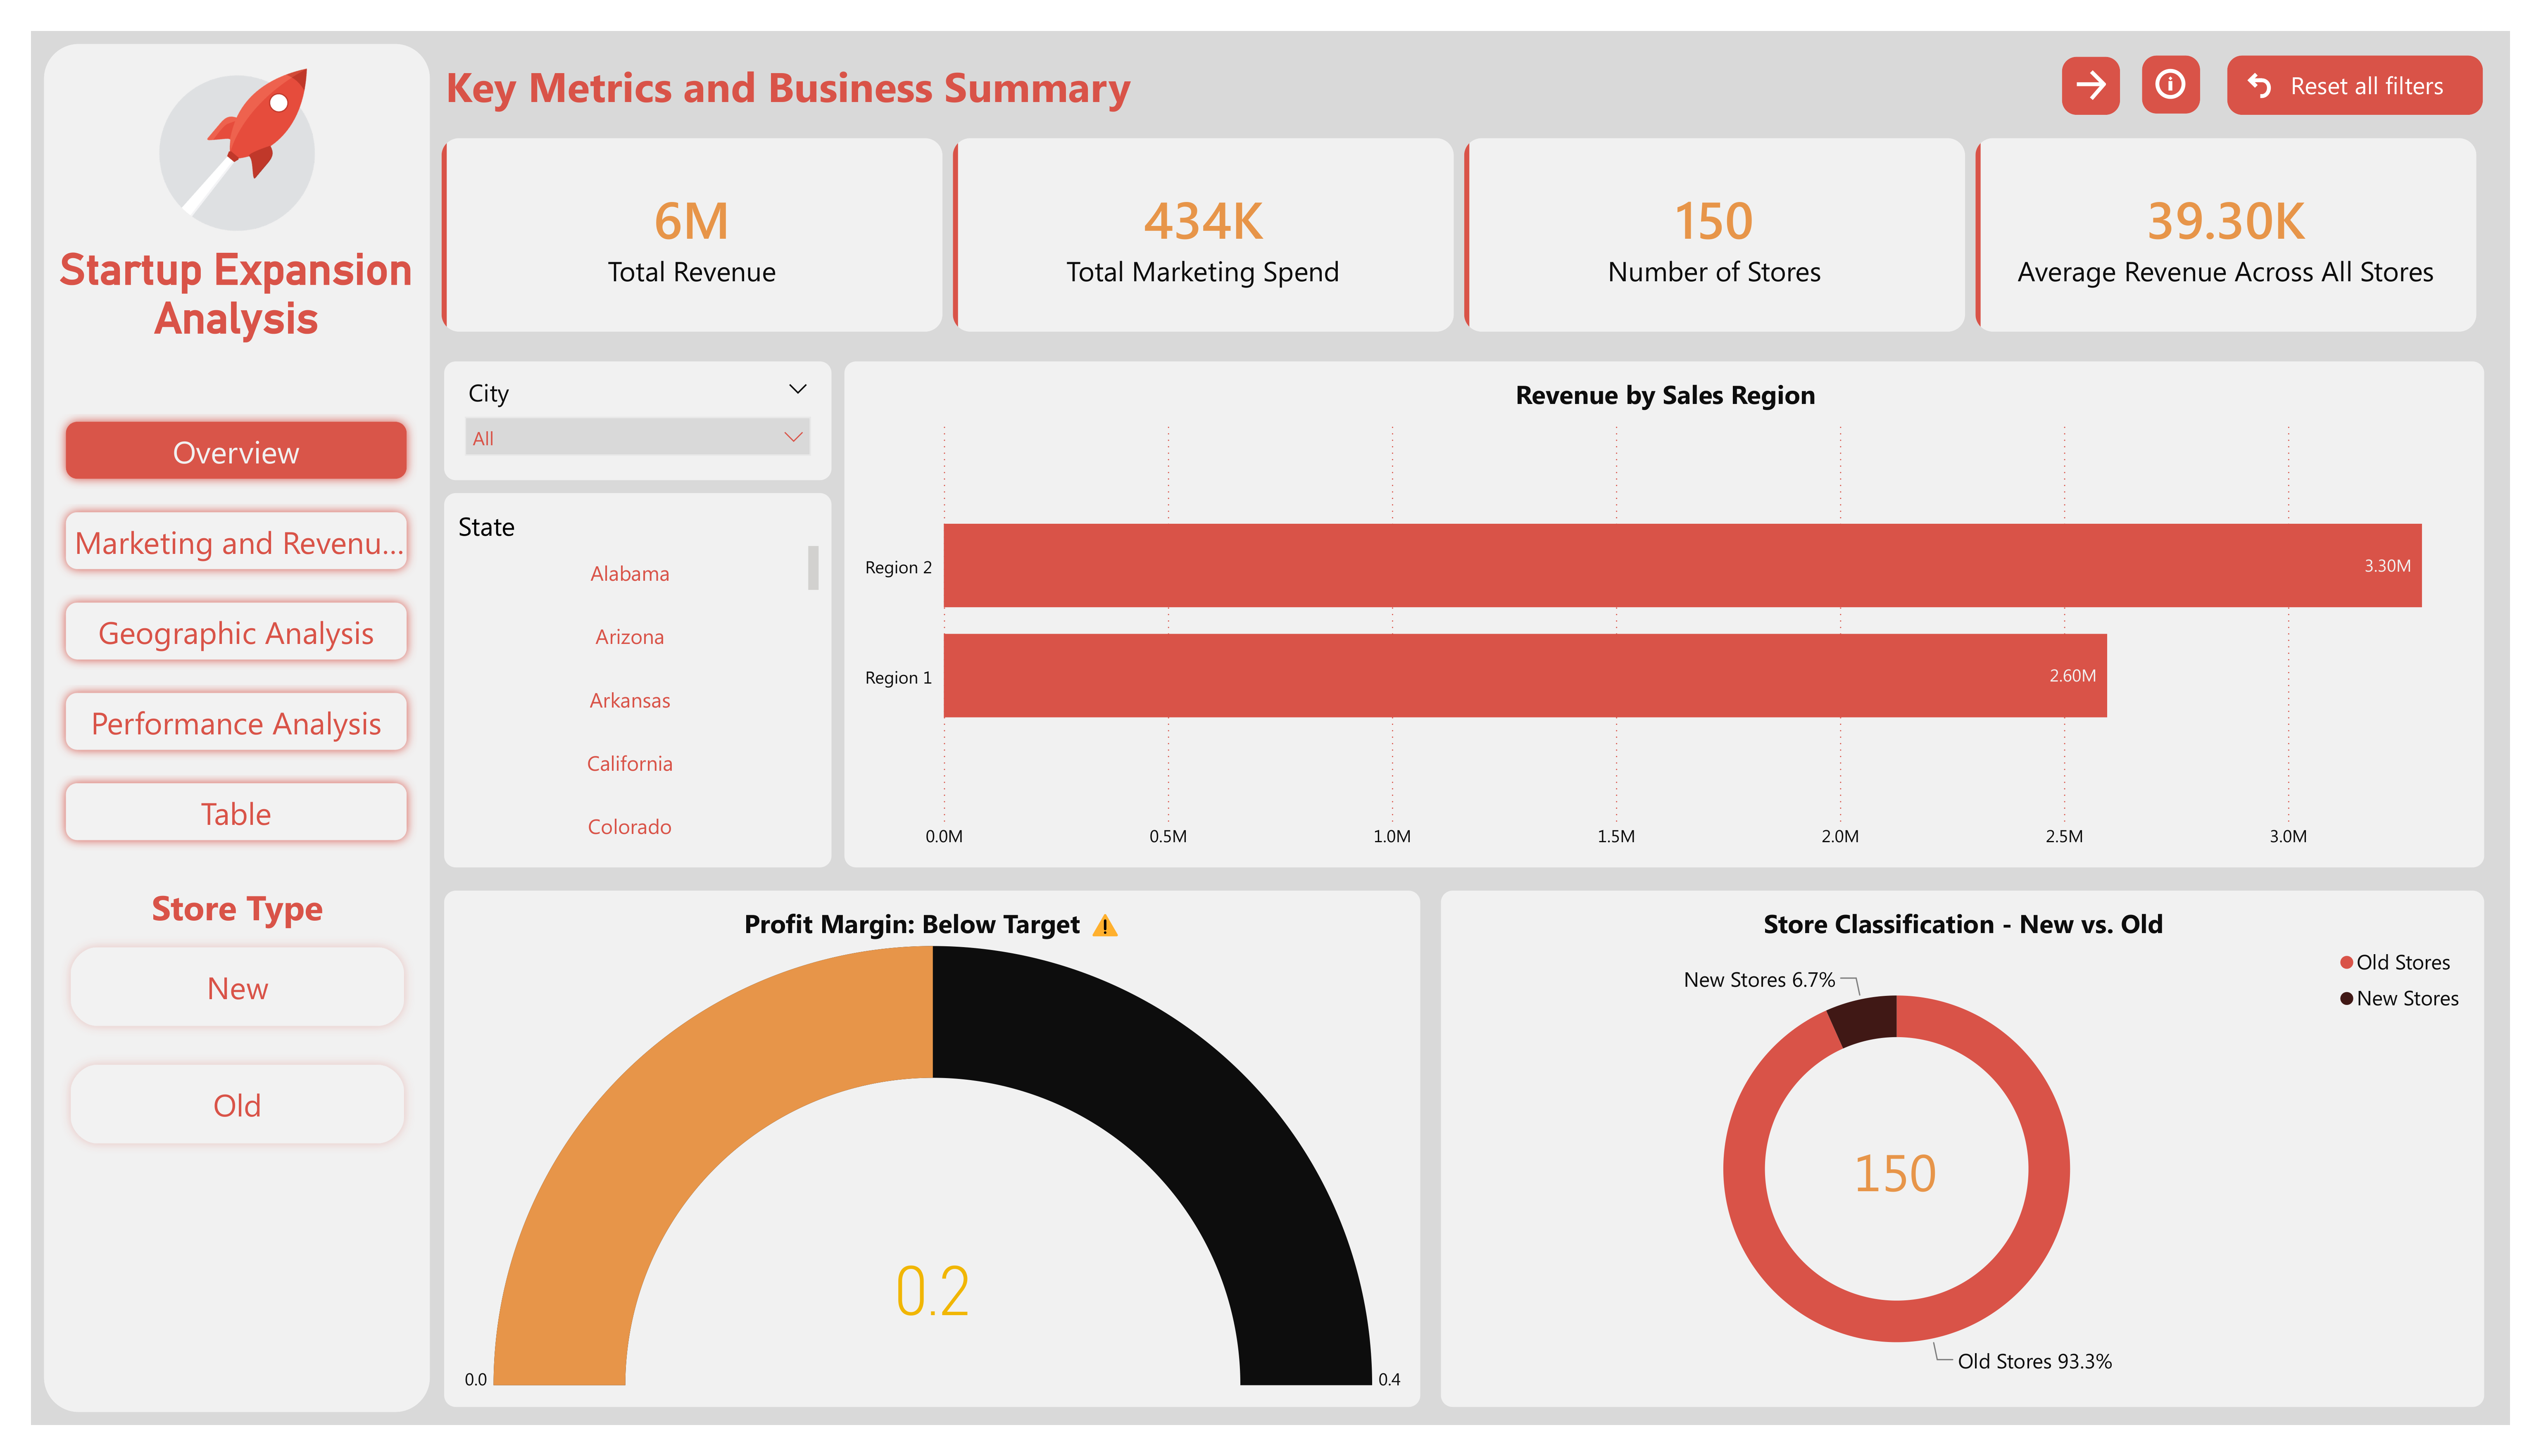

Layout of this report page (visuals, bound fields, positions):
{"tool":"powerbi","page":{"name":"Overview","canvas":[1920,1080],"ordinal":0},"visuals":[{"type":"shape","box":[0,0,318.5,1079.6],"z":0},{"type":"image","box":[0,18.5,318.5,146.3],"z":1000},{"type":"actionButton","title":"reset button","box":[1701,19,198.1,46.3],"z":2000},{"type":"actionButton","title":"info button","box":[1635,19,45,45],"z":3000},{"type":"group","id":"g1","title":"Buttons Menu","box":[18.5,194.4,240,420.1],"z":4000},{"type":"pageNavigator","box":[9.3,285,300,364],"z":5000},{"type":"textbox","box":[9.3,164.8,300,87],"z":6000},{"type":"textbox","title":"Title","box":[320.9,19.7,618.1,65.2],"z":7000},{"type":"cardVisual","fields":{"Data":["All measures.Total Revenue","All measures.Total Marketing Spend","All measures.Number of Stores","All measures.Average Revenue"]},"box":[318,83,1579,150],"z":8000},{"type":"barChart","fields":{"Category":["Sales.Sales Region"],"Y":["All measures.Total Revenue"]},"box":[630,256,1270,392],"z":9000},{"type":"advancedSlicerVisual","title":"Store Type","fields":{"Values":["Sales.New Expansion"]},"box":[10,650,300,234],"z":10000},{"type":"advancedSlicerVisual","fields":{"Values":["Sales.State"]},"box":[320,358,300,290],"z":11000},{"type":"donutChart","fields":{"Y":["All measures.Old Store Count","All measures.New Store Count"]},"box":[1092,666,808,400],"z":12000},{"type":"card","fields":{"Values":["All measures.Number of Stores"]},"box":[1294,716,300,334],"z":13000},{"type":"gauge","fields":{"Y":["All measures.Profit Margin %"]},"box":[320,666,756,400],"z":14000},{"type":"actionButton","title":"info button","box":[1572.5,20,45,45],"z":15000},{"type":"slicer","fields":{"Values":["Sales.City"]},"box":[320,256,300,92],"z":16000}]}

Visuals, with their boxes on the page's 1920x1080 design canvas (x1, y1, x2, y2). These are canvas units, not pixel positions in the 2541x1456 screenshot, which may show the page scaled, cropped or inside an application window:
shape: select_region(0, 0, 318, 1080)
image: select_region(0, 18, 318, 165)
"reset button" actionButton: select_region(1701, 19, 1899, 65)
"info button" actionButton: select_region(1635, 19, 1680, 64)
"Buttons Menu" group: select_region(18, 194, 258, 614)
pageNavigator: select_region(9, 285, 309, 649)
textbox: select_region(9, 165, 309, 252)
"Title" textbox: select_region(321, 20, 939, 85)
cardVisual - All measures.Total Revenue x All measures.Total Marketing Spend: select_region(318, 83, 1897, 233)
barChart - Sales.Sales Region x All measures.Total Revenue: select_region(630, 256, 1900, 648)
"Store Type" advancedSlicerVisual: select_region(10, 650, 310, 884)
advancedSlicerVisual - Sales.State: select_region(320, 358, 620, 648)
donutChart - All measures.Old Store Count x All measures.New Store Count: select_region(1092, 666, 1900, 1066)
card - All measures.Number of Stores: select_region(1294, 716, 1594, 1050)
gauge - All measures.Profit Margin %: select_region(320, 666, 1076, 1066)
"info button" actionButton: select_region(1572, 20, 1618, 65)
slicer - Sales.City: select_region(320, 256, 620, 348)
